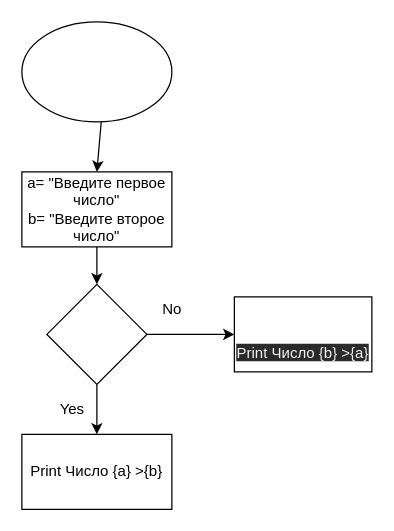
The diagram is 394 pixels wide and 531 high, and some of its shapes have lost their labels. Here are the shapes that lost their labels. From the top down, the centre of each, then its label:
point (96, 71): start
point (96, 333): a > b?
